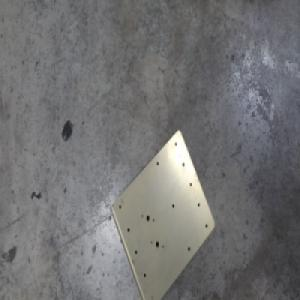MetalSheet: (109, 128, 216, 300)
